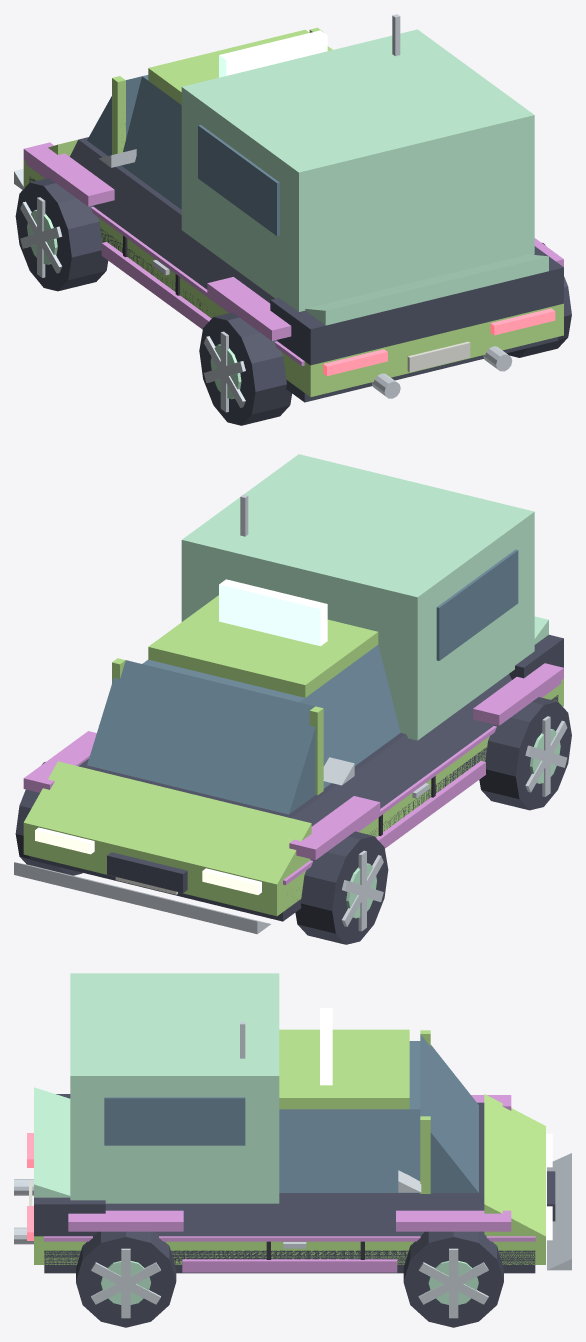
The model's file is harbor_van.glb.
The picture shows the model from 3 angles, top to bottom: view 1: azimuth 30°, elevation 25°; view 2: azimuth 150°, elevation 25°; view 3: azimuth 270°, elevation 25°; orthographic projection. The views are drawn at different scales.
Visible parts, largest first — view 1: VanCargo.013, Tail.040, Body.240, ShoulderL.037, Wheel_RL.200, Wheel_FL.200, CabinSideL.037, Ducktail.028, VanWindow-1.013, Arch-1False.116, RoofSign.022, Roof.240 (+15 smaller); view 2: VanCargo.013, Windshield.140, Nose.037, Roof.240, Body.240, ShoulderL.037, CabinSideL.037, Wheel_RL.200, Wheel_FL.200, RoofSign.022, VanWindow-1.013, Bumper.236 (+15 smaller); view 3: VanCargo.013, CabinSideR.037, ShoulderR.037, Roof.240, Nose.037, VanWindow1.013, Windshield.140, Body.240, Wheel_RR.200, Wheel_FR.200, Sill.236, Ducktail.028 (+18 smaller).
Part boxes in pixels (left/top/right/bottom): VanCargo.013: left=181, top=29, right=534, bottom=311; Tail.040: left=270, top=246, right=563, bottom=365; Body.240: left=23, top=160, right=563, bottom=397; ShoulderL.037: left=70, top=139, right=274, bottom=303; Wheel_RL.200: left=199, top=312, right=292, bottom=425; Wheel_FL.200: left=15, top=178, right=108, bottom=291; CabinSideL.037: left=121, top=76, right=181, bottom=209; Ducktail.028: left=305, top=254, right=548, bottom=325; VanWindow-1.013: left=198, top=124, right=279, bottom=236; Arch-1False.116: left=23, top=142, right=114, bottom=206; RoofSign.022: left=219, top=30, right=327, bottom=77; Roof.240: left=148, top=29, right=332, bottom=104; VanCargo.013: left=181, top=454, right=534, bottom=740; Windshield.140: left=87, top=660, right=315, bottom=814; Nose.037: left=24, top=761, right=311, bottom=884; Roof.240: left=148, top=595, right=378, bottom=697; Body.240: left=23, top=679, right=563, bottom=916; ShoulderL.037: left=291, top=674, right=511, bottom=826; CabinSideL.037: left=299, top=645, right=400, bottom=788; Wheel_RL.200: left=479, top=697, right=571, bottom=810; Wheel_FL.200: left=295, top=831, right=388, bottom=944; RoofSign.022: left=219, top=579, right=327, bottom=646; VanWindow-1.013: left=436, top=549, right=518, bottom=660; Bumper.236: left=14, top=862, right=270, bottom=934; VanCargo.013: left=70, top=973, right=279, bottom=1203; CabinSideR.037: left=279, top=1109, right=420, bottom=1192; ShoulderR.037: left=105, top=1195, right=484, bottom=1236; Roof.240: left=279, top=1029, right=409, bottom=1109; Nose.037: left=484, top=1094, right=545, bottom=1236; VanWindow1.013: left=104, top=1097, right=245, bottom=1145; Windshield.140: left=420, top=1034, right=478, bottom=1192; Body.240: left=34, top=1236, right=545, bottom=1264; Wheel_RR.200: left=76, top=1231, right=176, bottom=1327; Wheel_FR.200: left=403, top=1231, right=503, bottom=1327; Sill.236: left=44, top=1250, right=535, bottom=1273; Ducktail.028: left=34, top=1087, right=70, bottom=1197.
Bounding box in the file's own units: 3.2 × 2.84 × 5.34.
